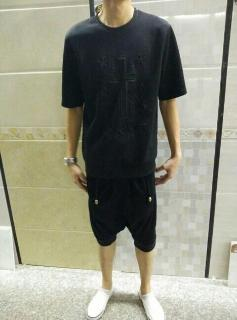short sleeve top: (61, 8, 187, 179)
shorts: (87, 166, 157, 252)
